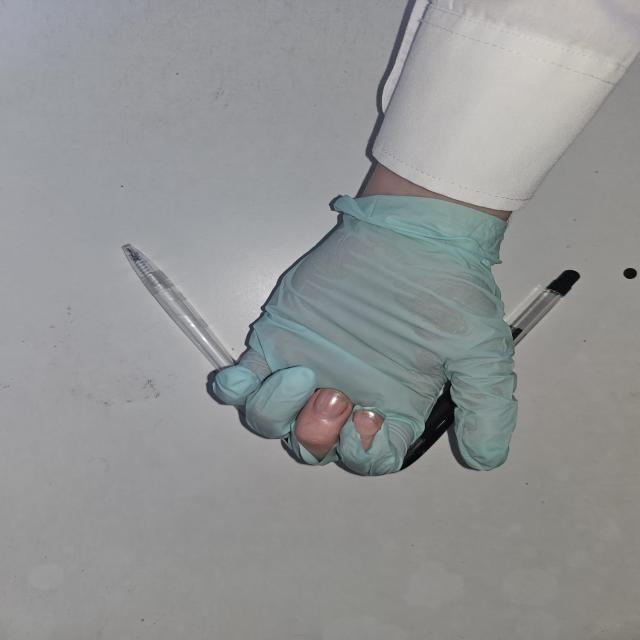gloves_damaged: (206, 190, 523, 477)
